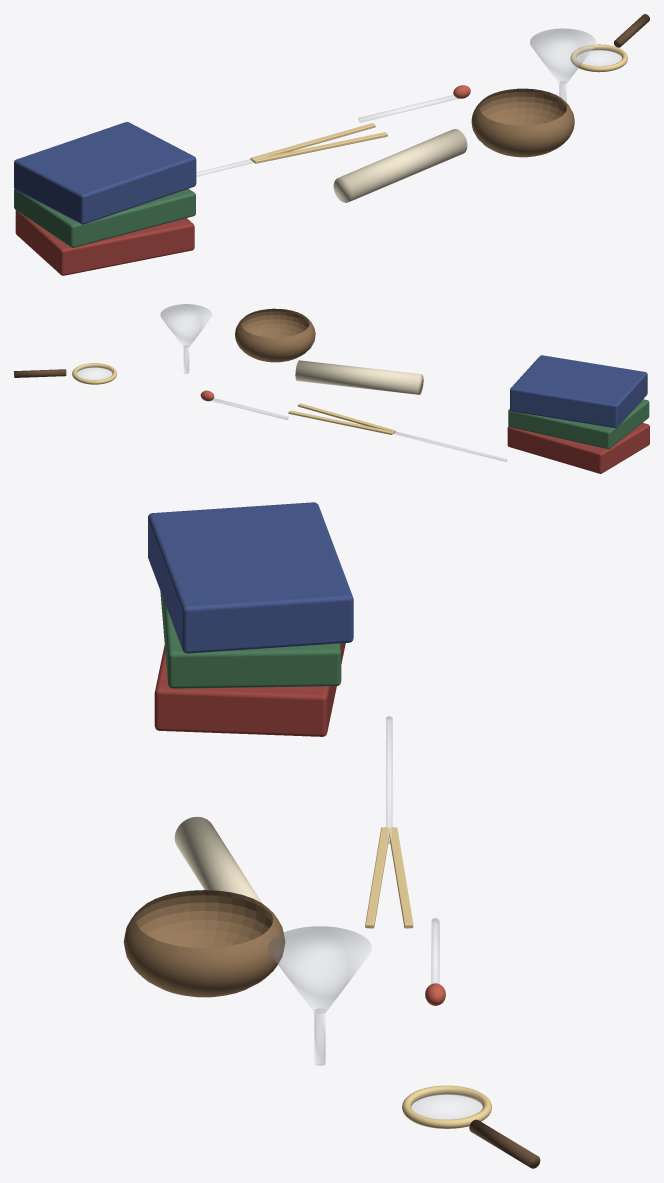
Rendered from tools_set.gltf.
3 views of the same model, one above another, from view 1: azimuth 30°, elevation 25°; view 2: azimuth 150°, elevation 25°; view 3: azimuth 270°, elevation 25° (orthographic). The views are drawn at different scales.
Parts seen in each view (by area): view 1: Book2, Bowl, Book0, Book1, Scroll, Funnel, MagnifierRim, TongArm-1, TongArm1, MagnifierLens, Pipette, MagnifierHandle; view 2: Book2, Bowl, Book0, Book1, Scroll, Funnel, MagnifierRim, TongArm1, StirRod, MagnifierLens, TongArm-1, MagnifierHandle (+1 smaller); view 3: Book2, Bowl, Book0, Book1, Funnel, Scroll, MagnifierRim, MagnifierLens, MagnifierHandle, TongArm-1, TongArm1.
Boxes of the visible parts, x1,y1,x2,y2 form: Book2: (14,122,196,224); Bowl: (471,88,574,157); Book0: (15,210,194,275); Book1: (14,189,195,247); Scroll: (333,129,467,202); Funnel: (530,28,595,84); MagnifierRim: (570,44,627,72); TongArm-1: (253,132,387,163); TongArm1: (250,123,375,161); MagnifierLens: (576,47,621,65); Pipette: (358,95,458,122); MagnifierHandle: (614,14,649,47); Book2: (510,355,647,428); Bowl: (235,308,315,362); Book0: (507,423,649,473); Book1: (508,399,649,449); Scroll: (295,360,423,394); Funnel: (160,304,211,347); MagnifierRim: (72,363,116,384); TongArm1: (288,410,393,434); StirRod: (381,428,506,461); MagnifierLens: (76,365,112,379); TongArm-1: (298,403,395,432); MagnifierHandle: (14,369,66,377); Book2: (148,502,353,653); Bowl: (123,890,285,997); Book0: (154,643,345,736); Book1: (160,591,341,688); Funnel: (268,926,371,1013); Scroll: (174,816,261,902); MagnifierRim: (402,1085,491,1128); MagnifierLens: (411,1090,482,1119); MagnifierHandle: (469,1119,540,1168); TongArm-1: (365,827,389,928); TongArm1: (389,827,413,928).
Size of the model in its own units: 1.1 by 0.1365 by 0.3607.
